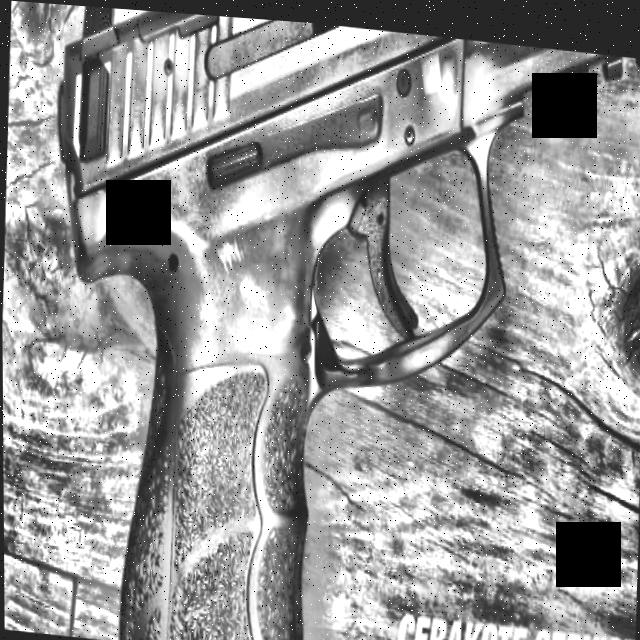Heckler - Koch -H-K-: (23, 1, 640, 640)
